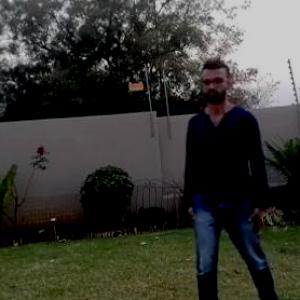follow: (178, 59, 262, 299)
